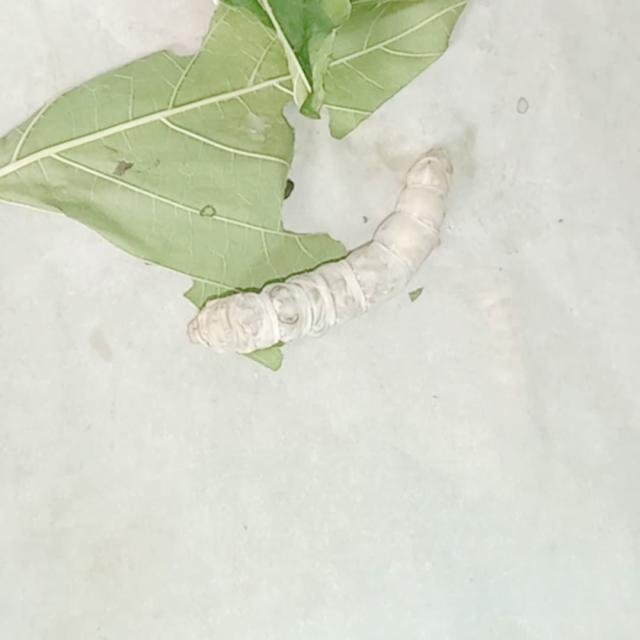Grasserie: (175, 106, 491, 440)
